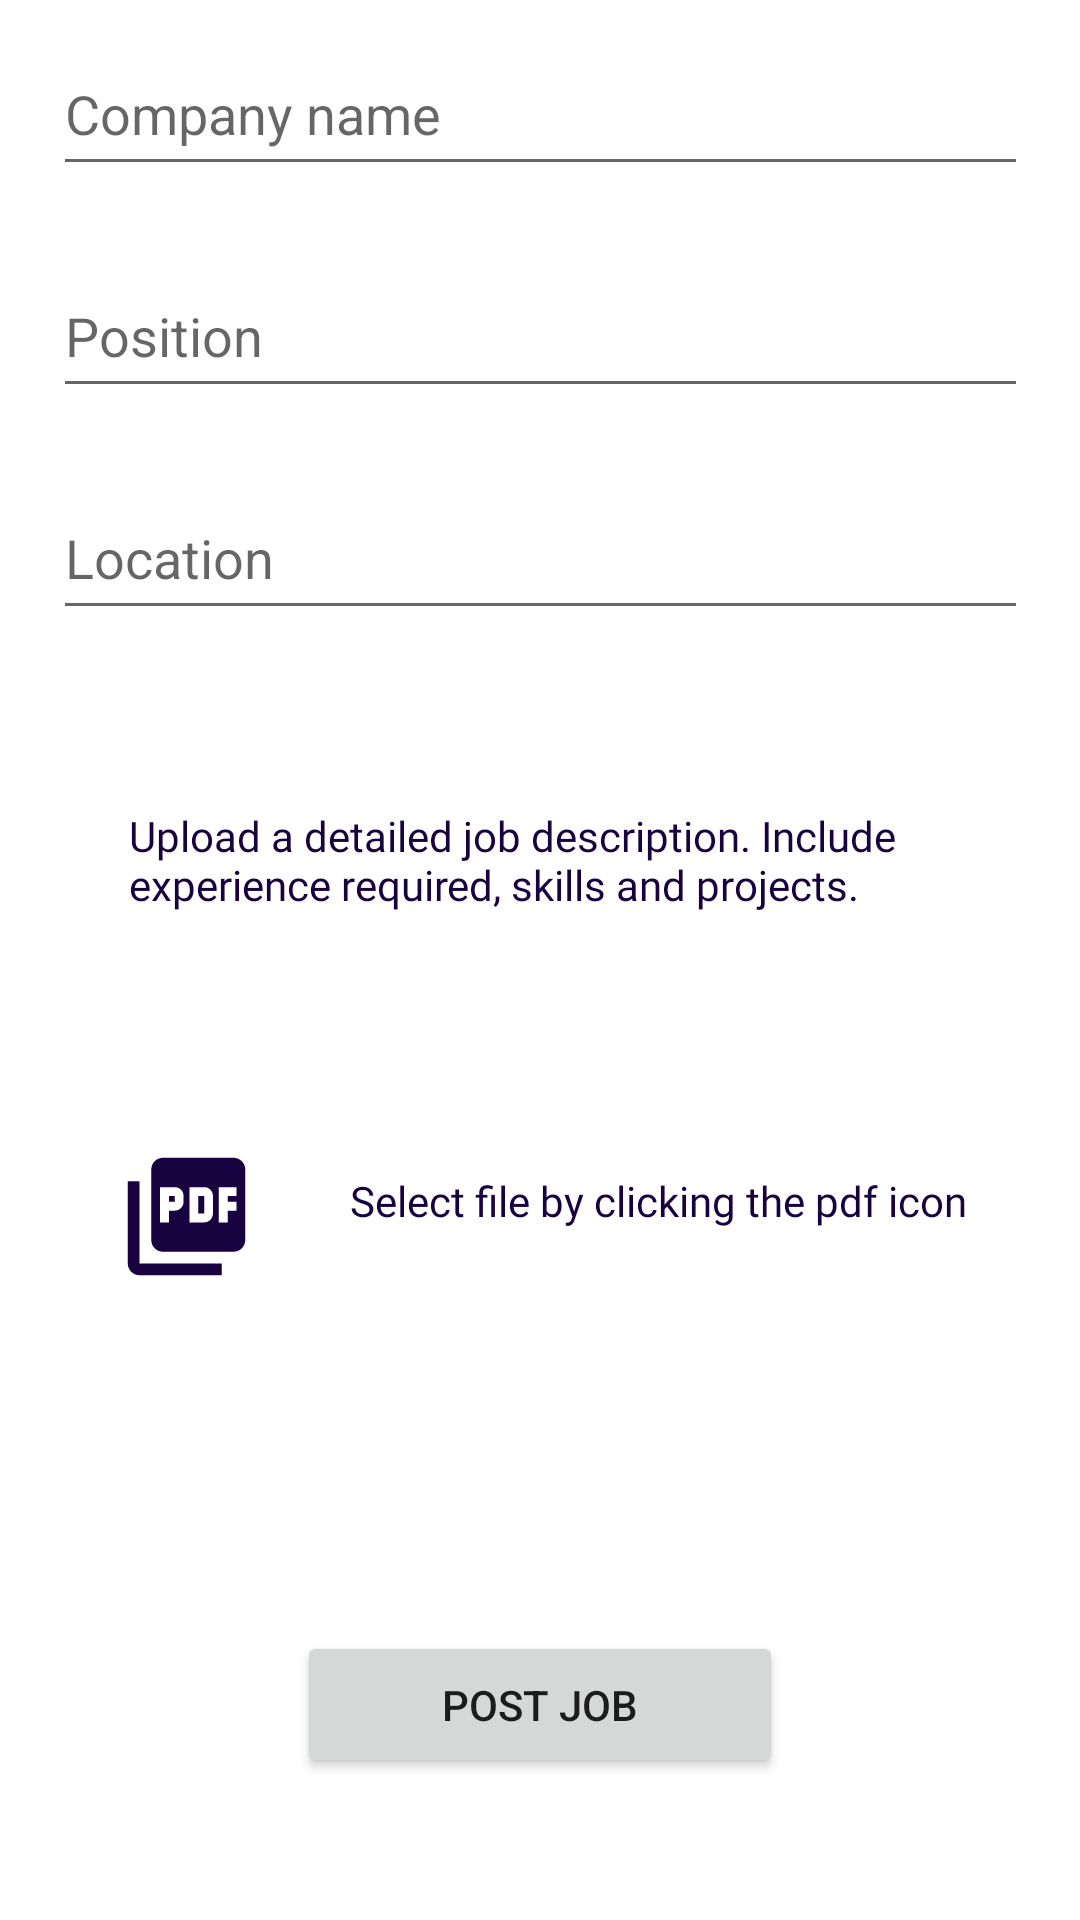

Screen size 1080px x 1920px. Icon name, then its center in pixels as (x,y):
picture as pdf: (186,1216)
